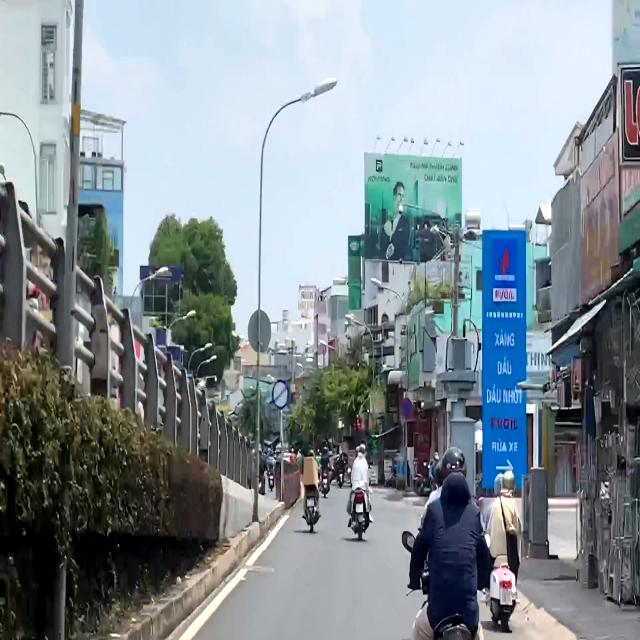DP.135: (272, 379, 288, 409)
